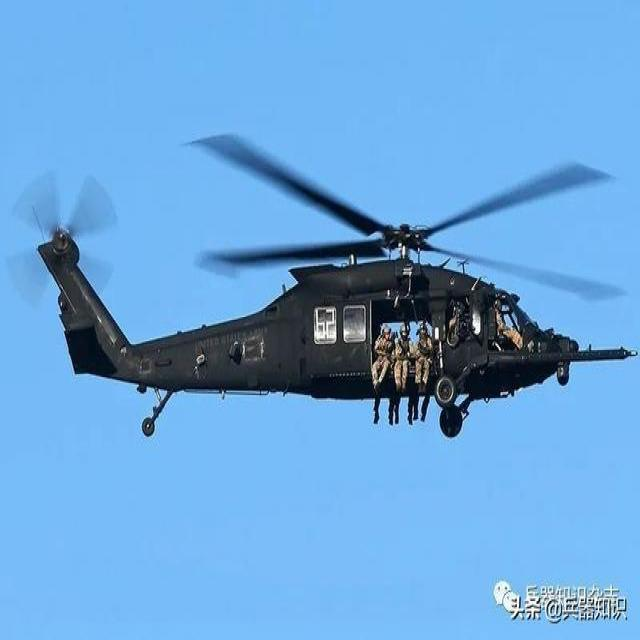MIL_HELO: (0, 99, 640, 465)
